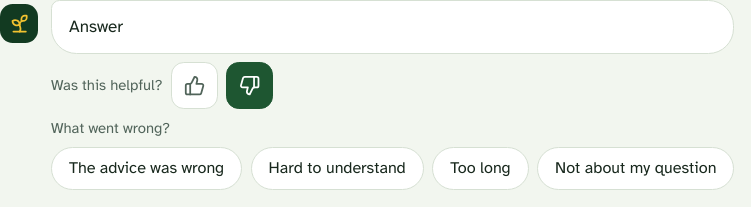
Test: assistant messages › asks what went wrong after a thumbs down and sends the reason
Check: the text "What went wrong?" is shown, box 51,119 -> 170,137
Click the button "Too long".
click(480, 169)  # box 432,147 -> 529,190
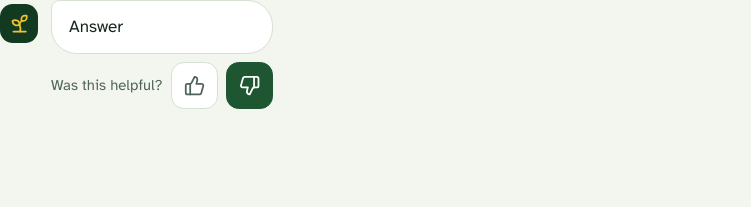
Check: the text "What went wrong?" is gone
